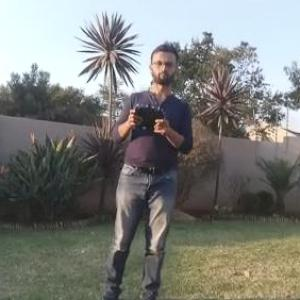follow: (88, 34, 198, 299)
